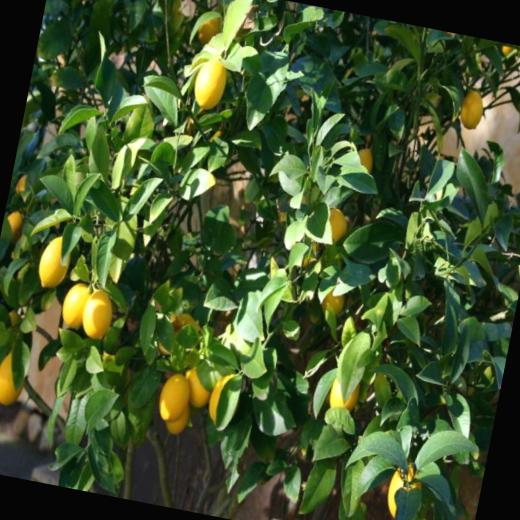Grape: (185, 44, 233, 108), (30, 231, 66, 293), (157, 367, 193, 426), (79, 287, 114, 346), (0, 341, 29, 409), (180, 359, 212, 411), (326, 374, 362, 419), (320, 209, 352, 252), (57, 282, 89, 324), (459, 83, 490, 125), (164, 395, 188, 440), (320, 284, 348, 320), (208, 377, 230, 421), (352, 142, 377, 178)
